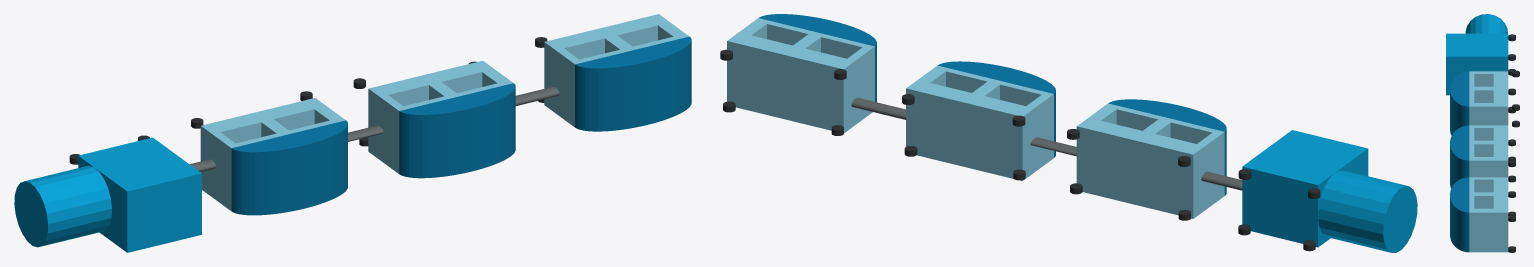
The model's file is tinker.obj.
The picture shows the model from 3 angles, left to right: view 1: azimuth 30°, elevation 25°; view 2: azimuth 150°, elevation 25°; view 3: azimuth 270°, elevation 25°; orthographic projection. The views are drawn at different scales.
Parts seen in each view (by area): view 1: group_0_30377, group_0_8768998, group_0_40919, group_0_6383466, group_0_2829873; view 2: group_0_8768998, group_0_40919, group_0_30377, group_0_2829873, group_0_6383466; view 3: group_0_8768998, group_0_30377, group_0_40919, group_0_2829873.
Boxes of the visible parts, <box> form: group_0_30377: <box>231,36,691,215</box>; group_0_8768998: <box>200,14,689,211</box>; group_0_40919: <box>14,137,201,252</box>; group_0_6383466: <box>190,86,559,171</box>; group_0_2829873: <box>69,37,547,164</box>; group_0_8768998: <box>727,18,1224,218</box>; group_0_40919: <box>1242,130,1417,252</box>; group_0_30377: <box>759,14,1226,195</box>; group_0_2829873: <box>720,49,1320,251</box>; group_0_6383466: <box>851,97,1242,190</box>; group_0_8768998: <box>1469,71,1508,252</box>; group_0_30377: <box>1450,71,1469,252</box>; group_0_40919: <box>1446,14,1508,95</box>; group_0_2829873: <box>1508,34,1519,252</box>.
Bounding box in the file's own units: 121 × 12 × 19.
